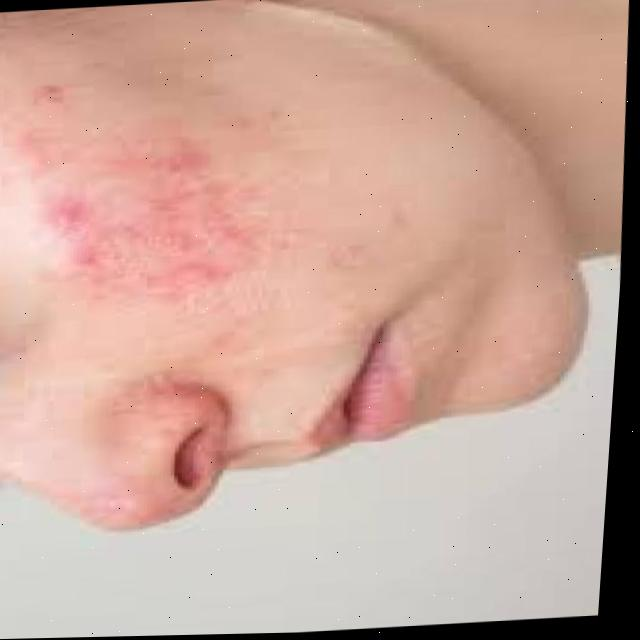Rosacea: (12, 107, 275, 308), (75, 464, 152, 536)
